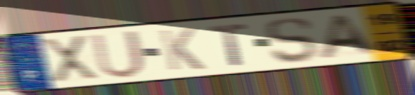A: (317, 12, 381, 61)
K: (157, 27, 207, 72)
S: (263, 16, 319, 65)
T: (208, 22, 251, 68)
U: (89, 28, 148, 80)
X: (38, 33, 102, 85)
